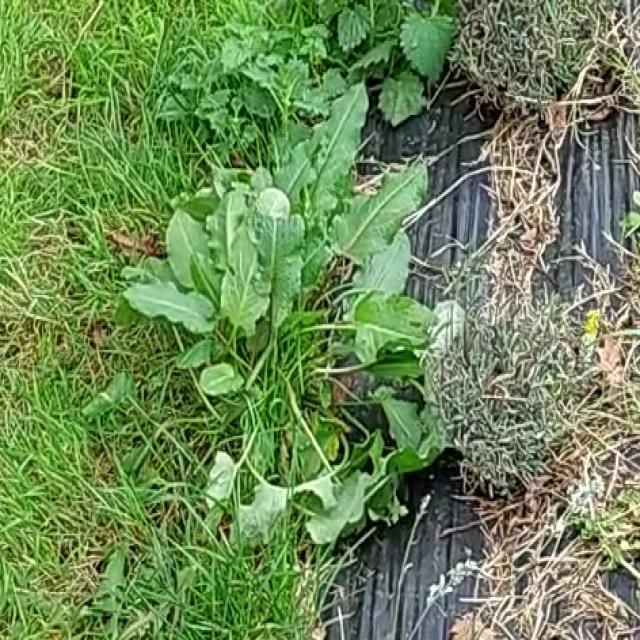organic waste: (104, 52, 490, 564)
